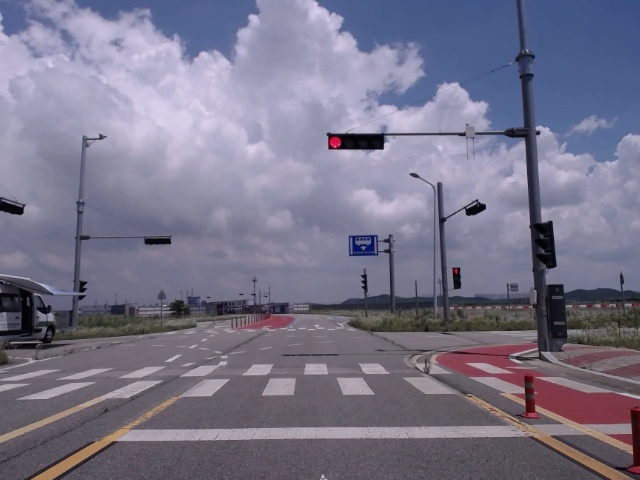red_4: (328, 135, 384, 149)
